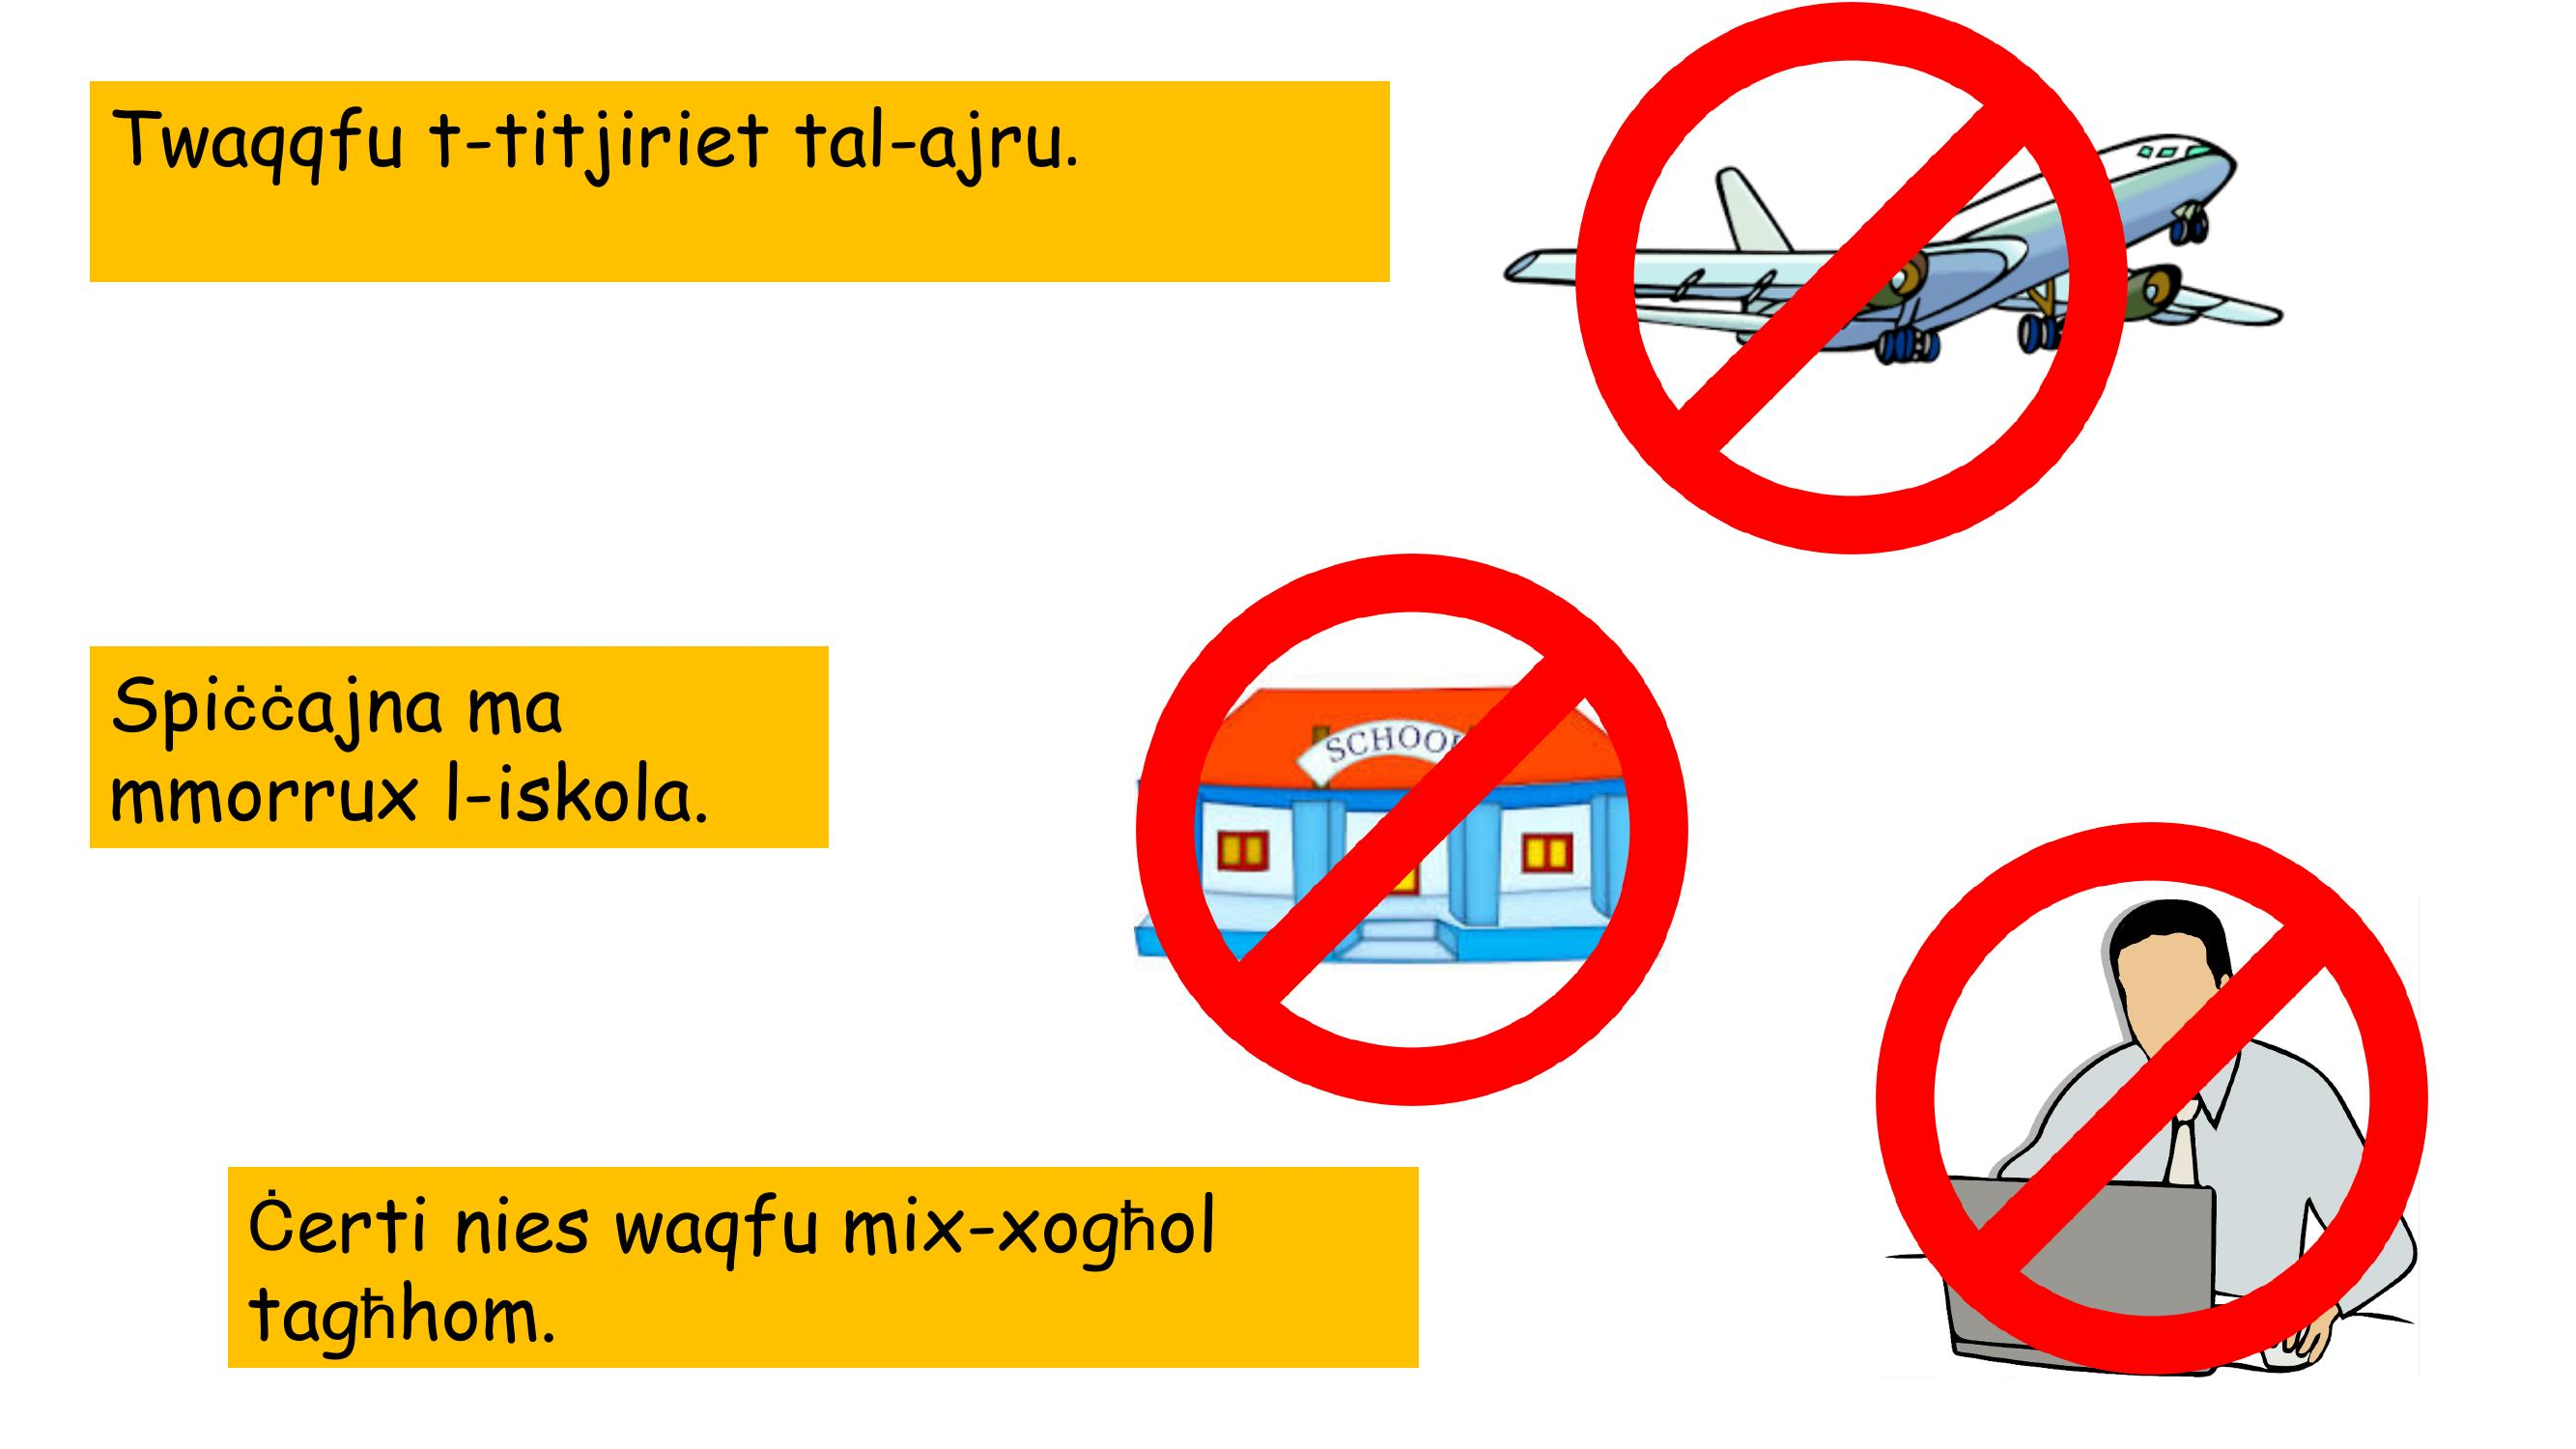text: (235, 1175, 1240, 1364), (96, 92, 1113, 216), (92, 658, 740, 837)
